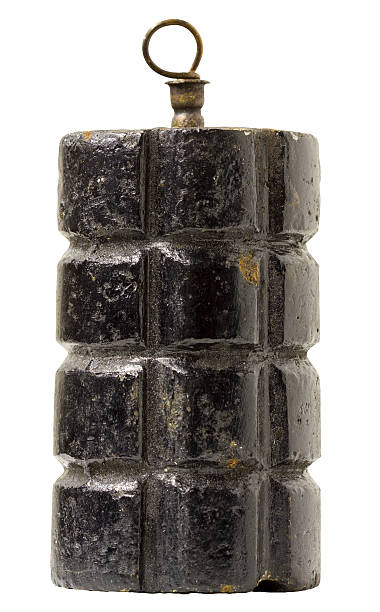e1: (56, 17, 325, 598)
